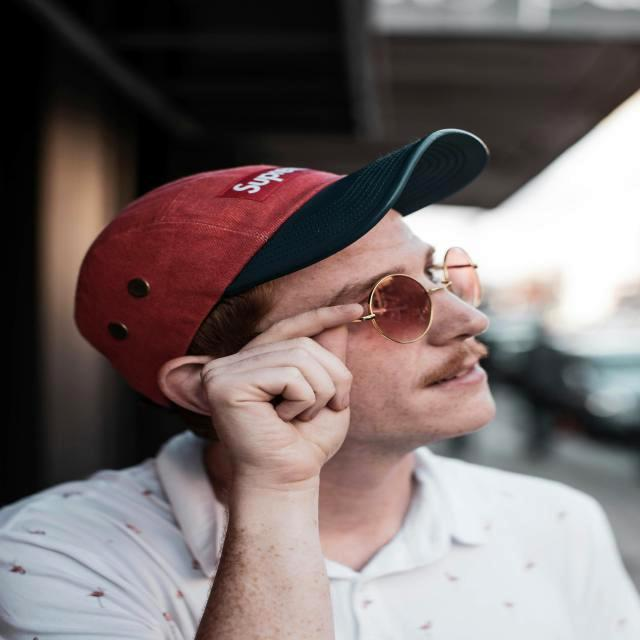no_hard_hat: (76, 129, 489, 388)
person: (2, 212, 640, 640)
